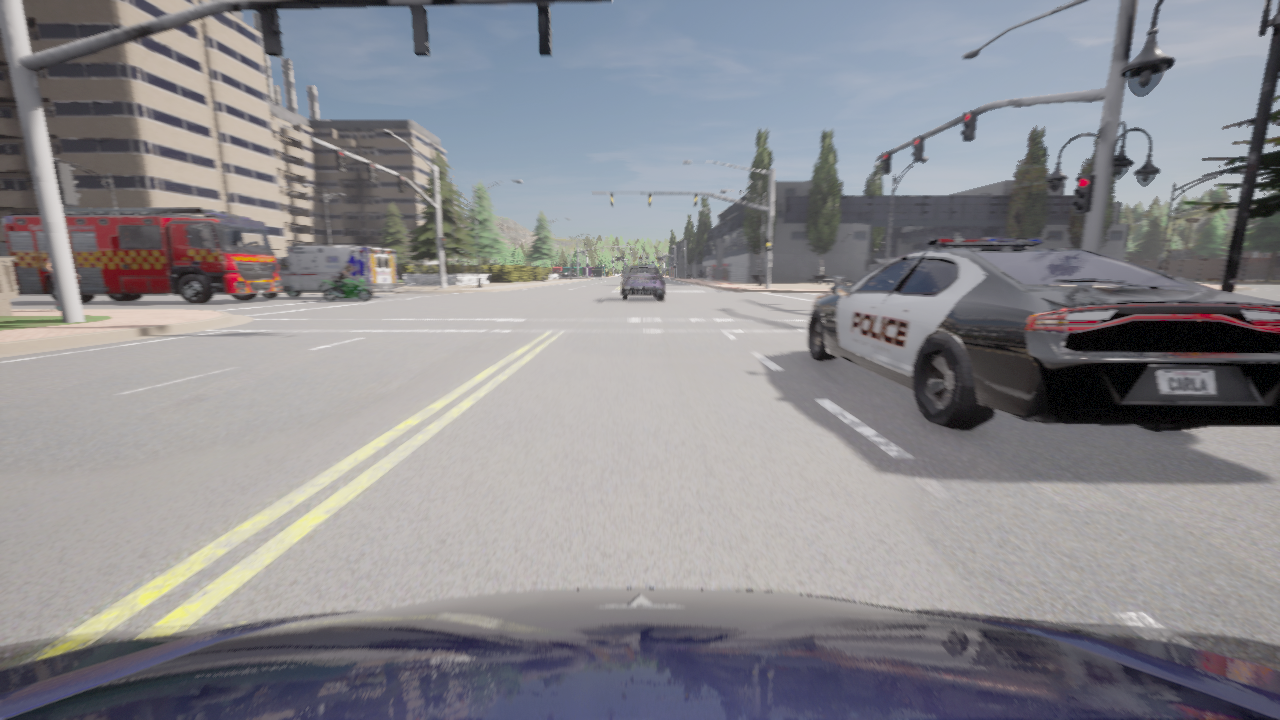cyclist: (0, 588, 1279, 719), (806, 238, 1279, 429), (2, 208, 281, 303), (261, 246, 401, 298), (621, 264, 664, 300), (320, 274, 372, 301), (550, 270, 566, 276), (567, 271, 576, 276), (16, 285, 18, 290), (567, 275, 576, 276)
pedestrian: (46, 257, 79, 310)
